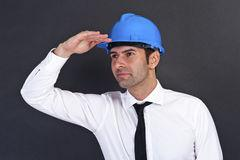helmet: (100, 14, 165, 56)
